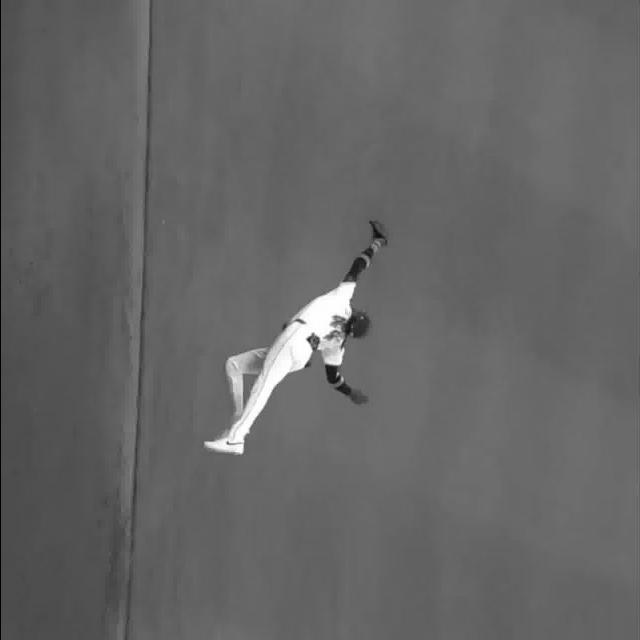baseball_glove: (368, 220, 390, 248)
shoe: (198, 438, 244, 460)
